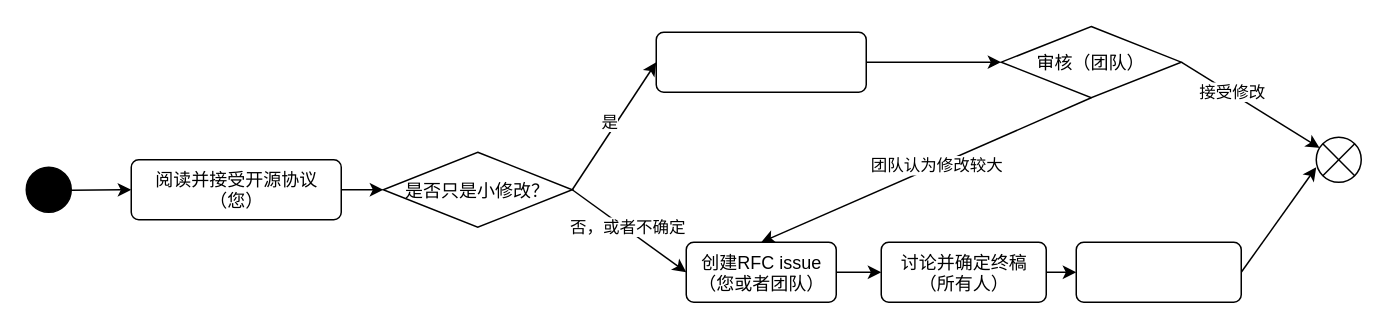
This 1388x329 diagram has some shape labels left out. Each missing label, with the centre of its shape:
修改代码，创建PR （您）: pixel 760 61
根据终稿实现 （您或者团队）: pixel 1158 271
